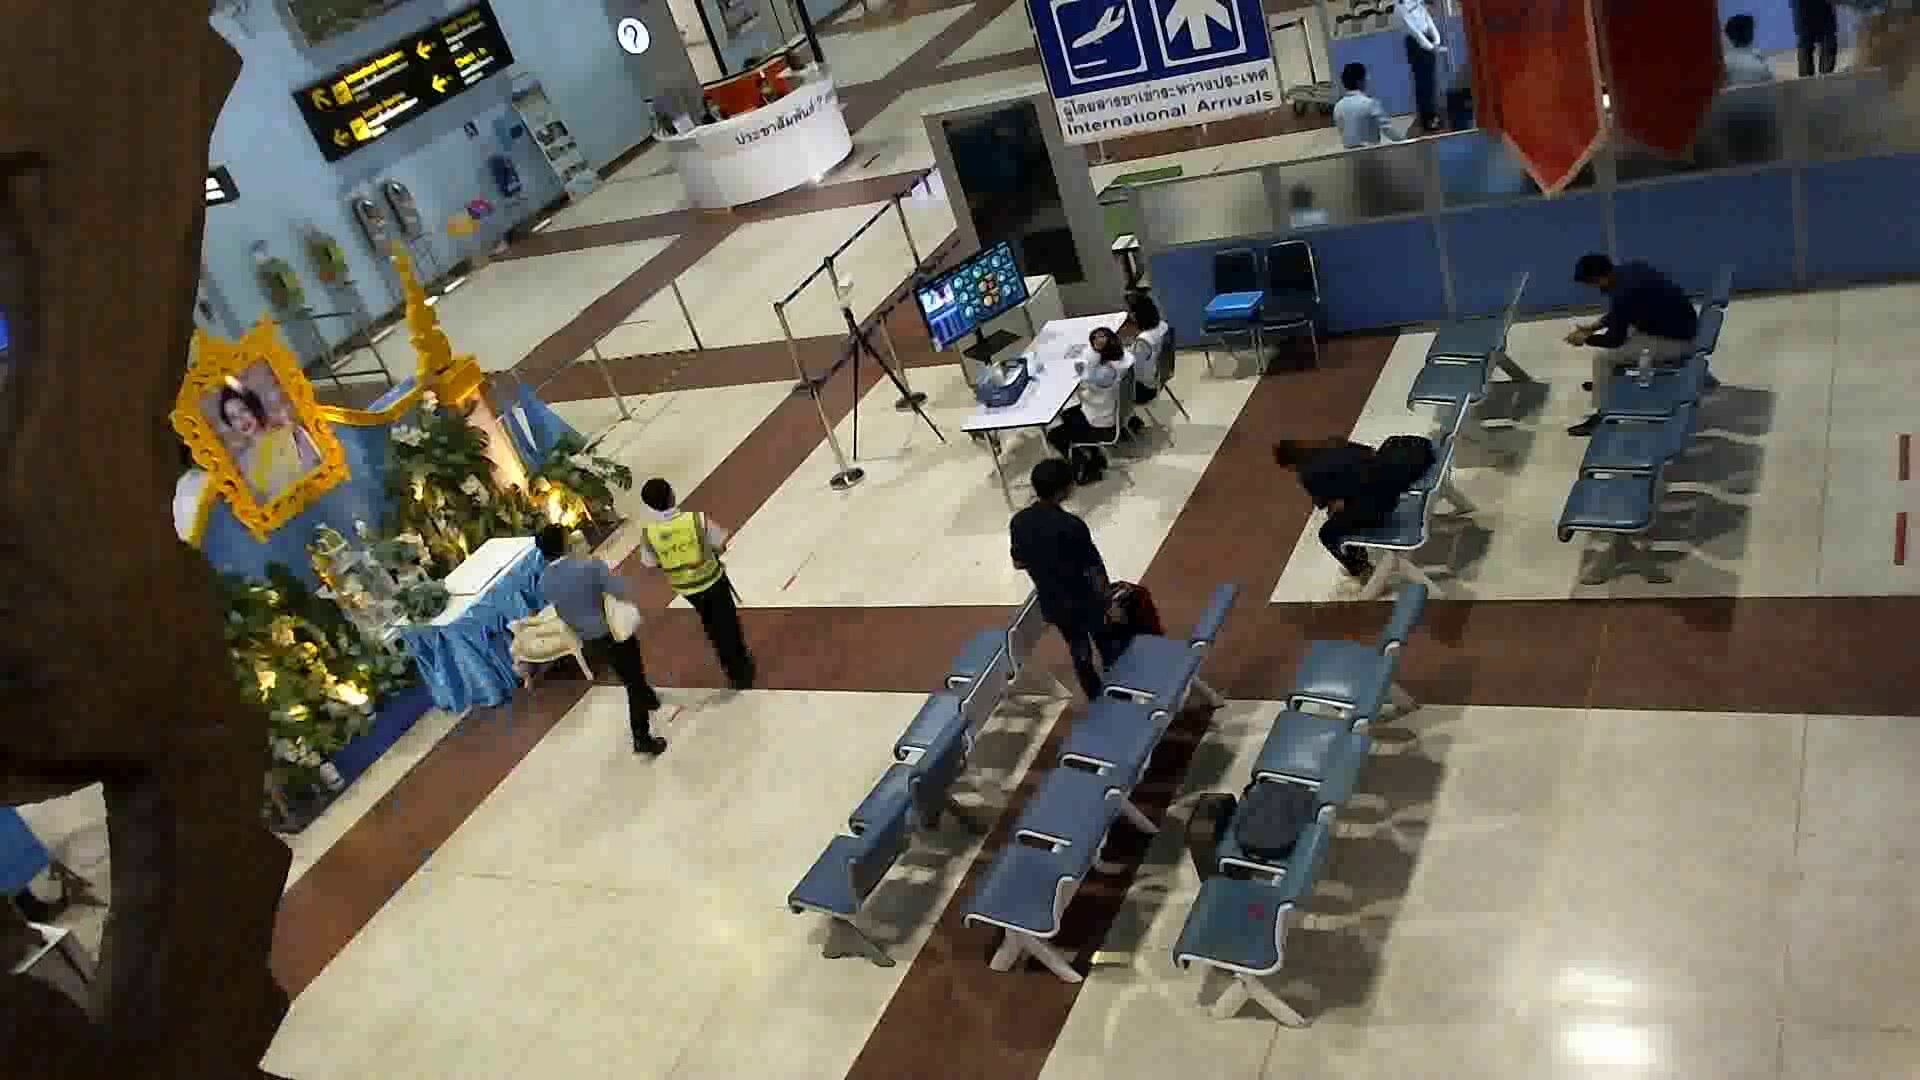backpack: (1235, 768, 1308, 866), (1370, 424, 1447, 497)
luggage: (1178, 786, 1251, 890), (1112, 574, 1164, 659)
people: (533, 524, 676, 776), (635, 474, 778, 699), (1004, 447, 1124, 703), (1572, 247, 1691, 434), (1266, 426, 1393, 578), (1045, 334, 1133, 474), (1108, 290, 1176, 415)
